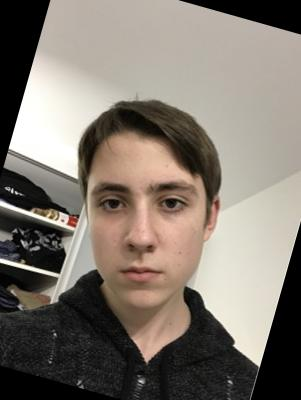without_mask: (62, 154, 221, 322)
